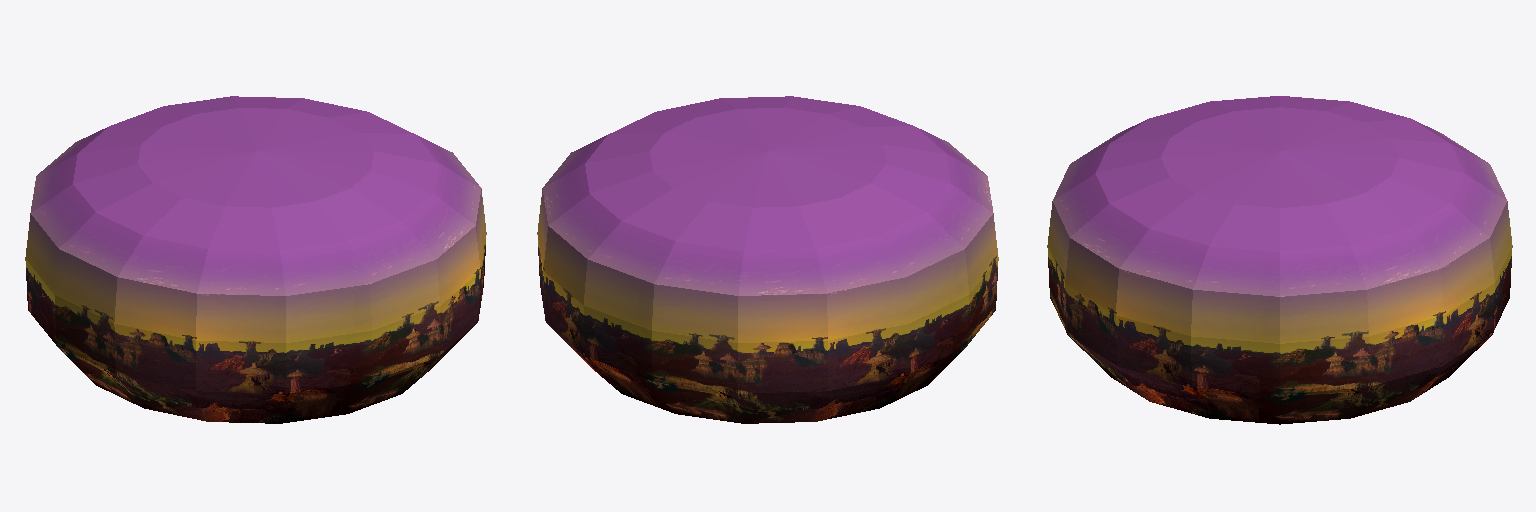
3 views of the same model, side by side, from view 1: azimuth 30°, elevation 25°; view 2: azimuth 150°, elevation 25°; view 3: azimuth 270°, elevation 25° (orthographic).
Parts seen in each view (by area): view 1: Object_2; view 2: Object_2; view 3: Object_2.
Part boxes in pixels (left/top/right/bottom): Object_2: left=25, top=96, right=486, bottom=423; Object_2: left=537, top=96, right=998, bottom=423; Object_2: left=1047, top=96, right=1512, bottom=424.
Bounding box in the file's own units: 4320462 × 2149895 × 4320460.
Materials: 2 (2 with a texture image).